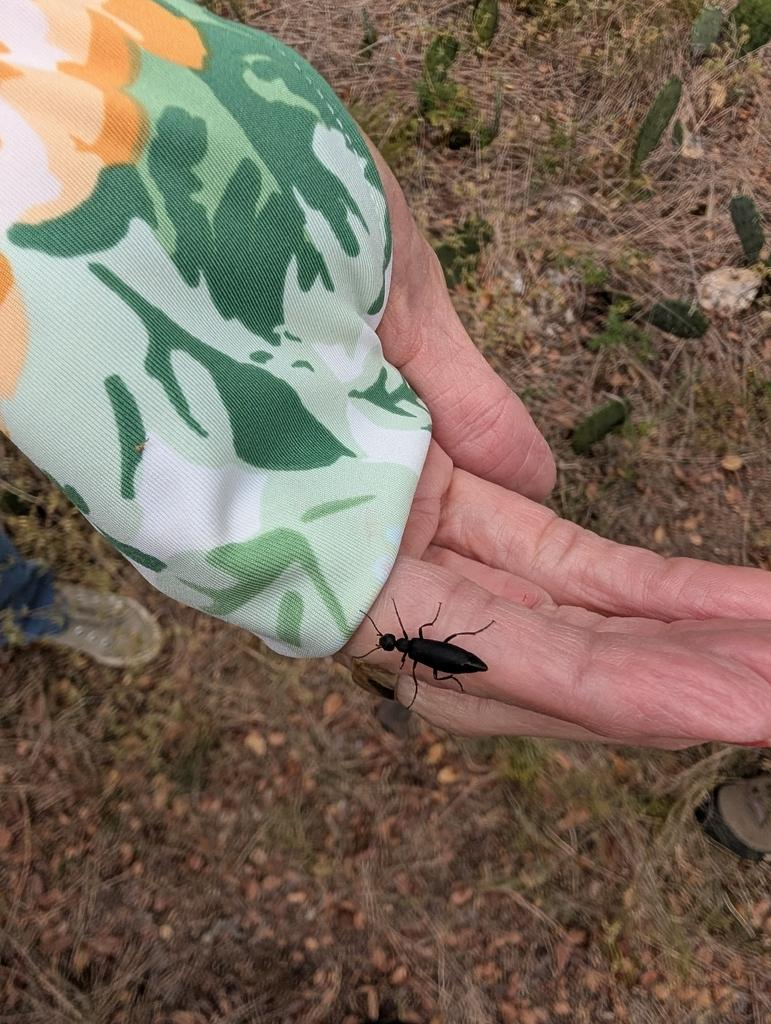blister_beetle: (324, 585, 526, 731)
